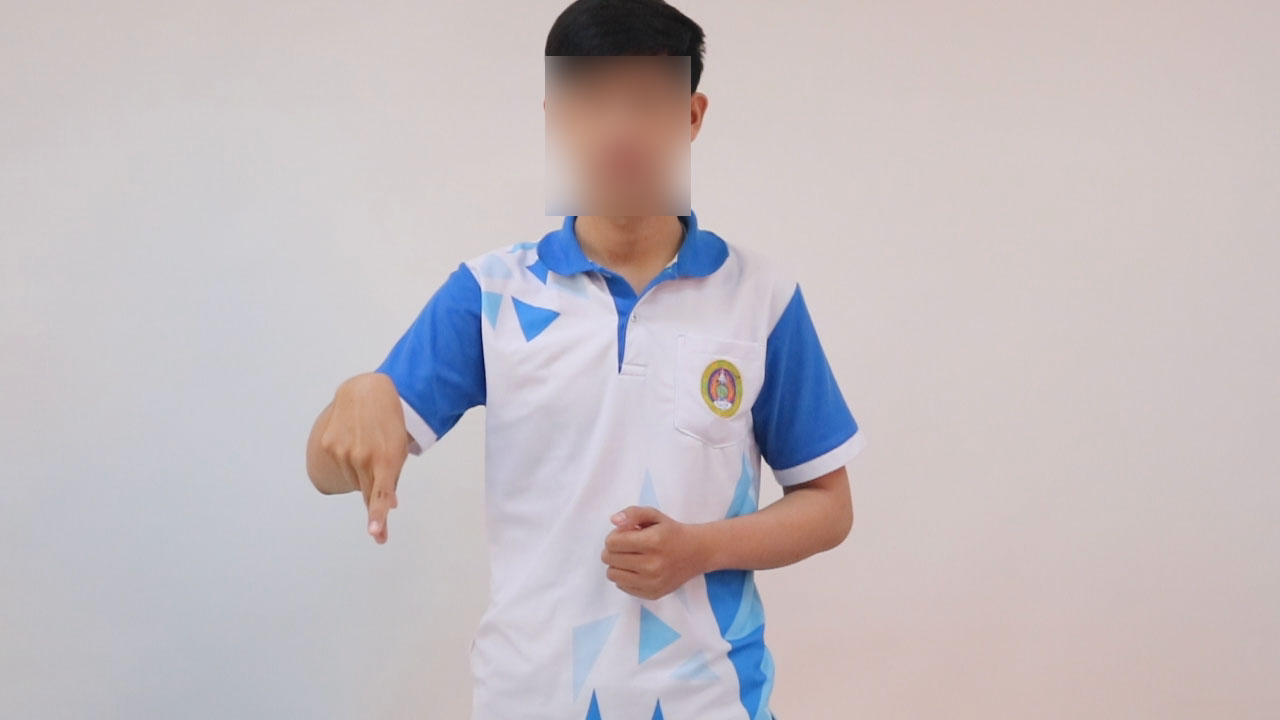por: (317, 365, 420, 553)
